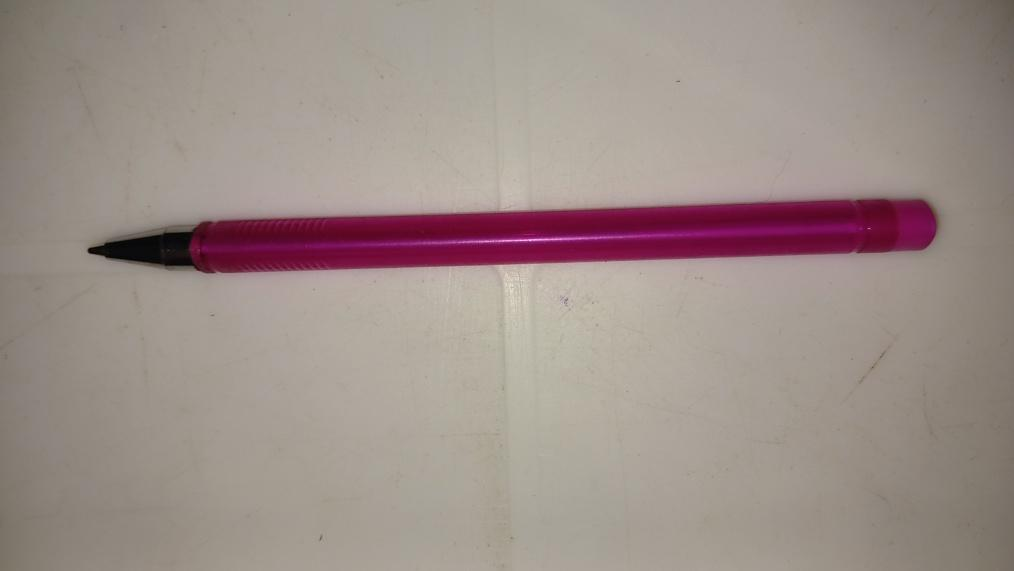pen: (80, 201, 942, 270)
